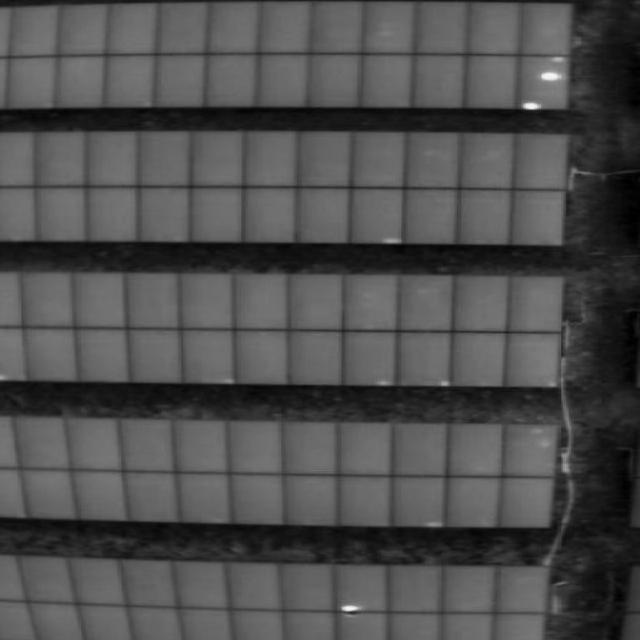Hotspot: (521, 99, 540, 111), (339, 602, 361, 611)
Panel: (0, 130, 568, 241), (0, 271, 564, 382), (0, 1, 568, 106), (0, 418, 553, 523), (0, 561, 549, 634), (539, 64, 564, 86)
